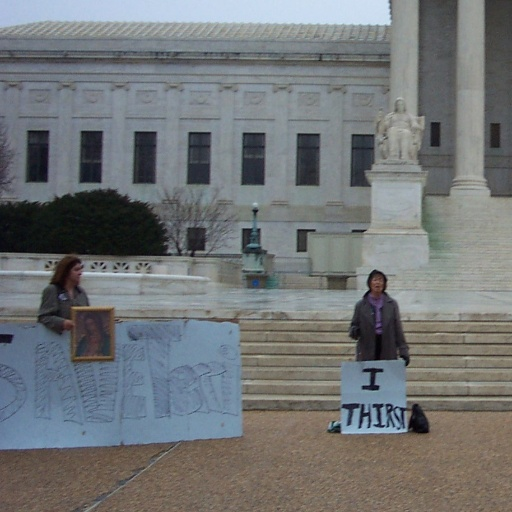hand: (399, 350, 410, 369), (62, 317, 72, 331), (349, 327, 356, 340)
